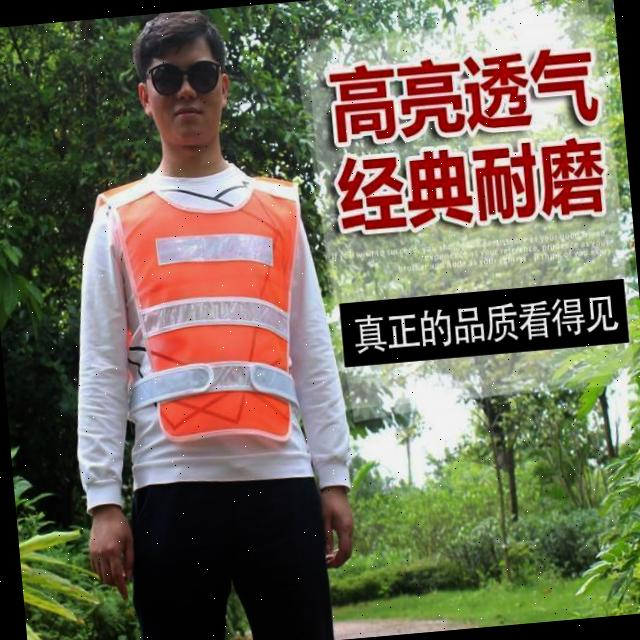vest: (112, 148, 314, 468)
